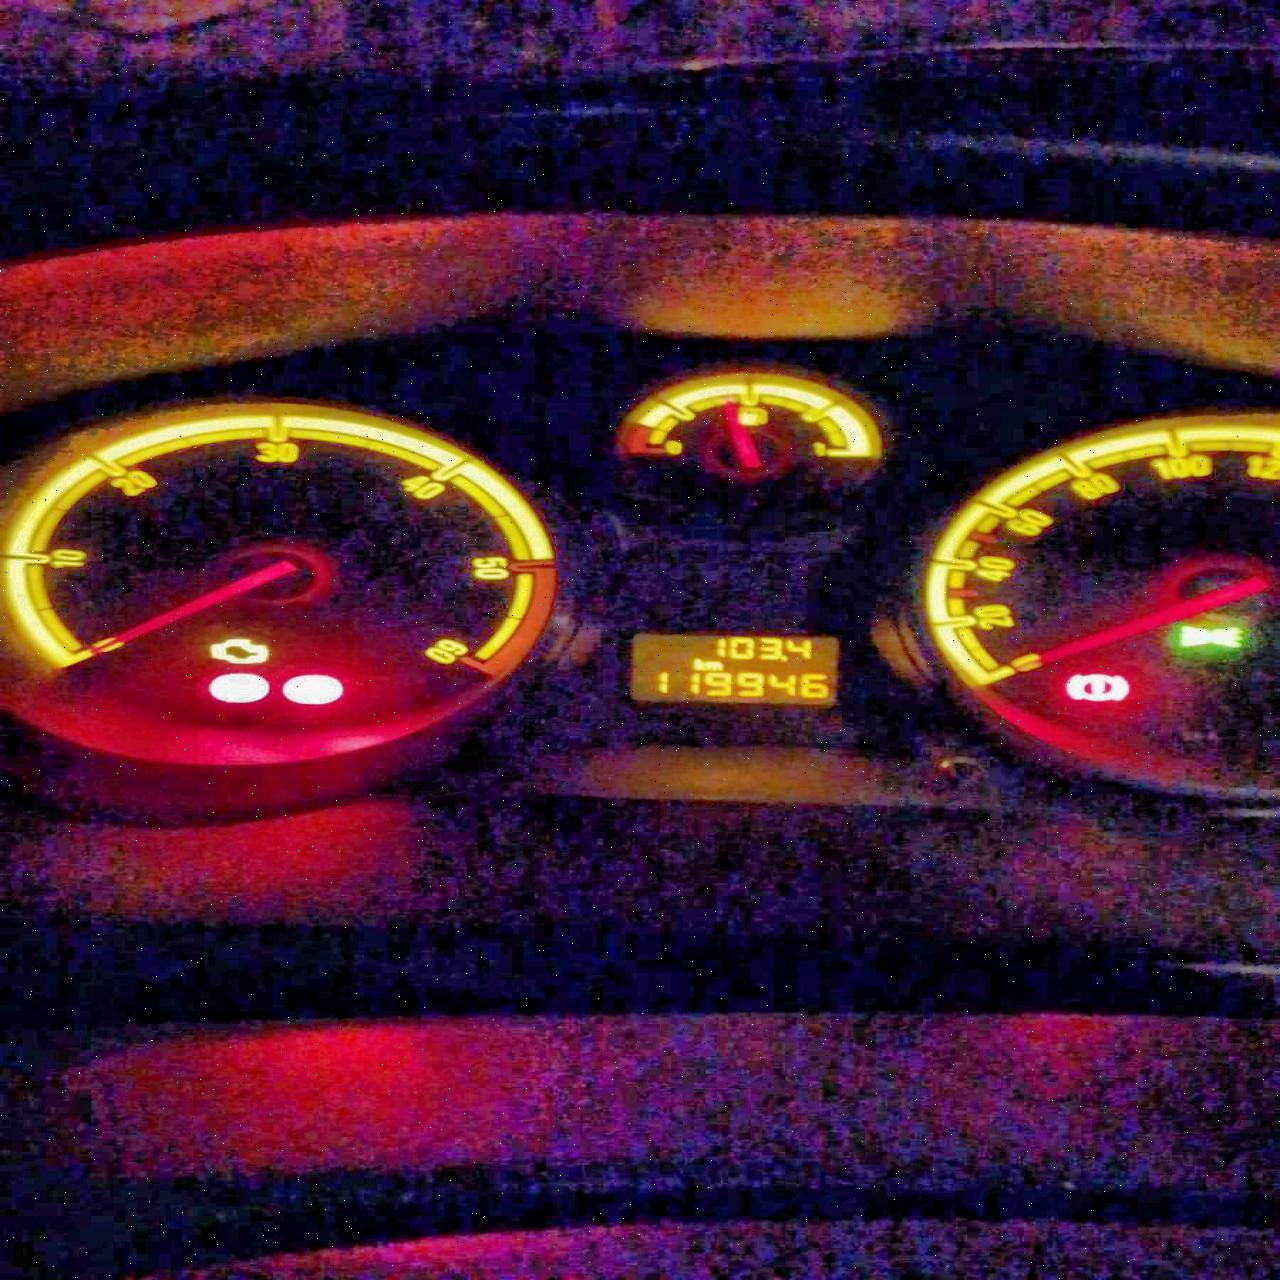-: (779, 654, 788, 661)
0: (727, 636, 754, 659)
1: (687, 672, 701, 695), (713, 636, 727, 659), (655, 670, 668, 694)
3: (757, 636, 782, 659)
4: (767, 673, 797, 696), (784, 639, 812, 660)
6: (799, 673, 828, 697)
9: (703, 670, 731, 696), (735, 672, 764, 696)
X: (702, 660, 723, 670), (689, 658, 702, 672)
odometer: (626, 632, 842, 707)
